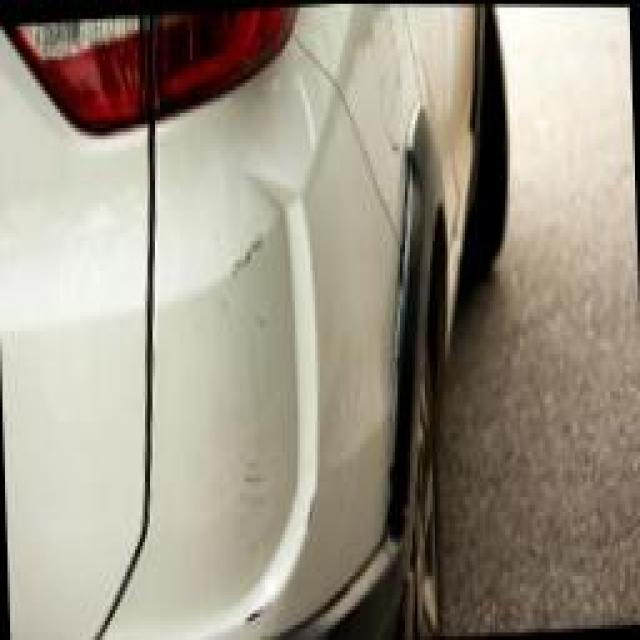Bumper: (160, 109, 405, 616)
